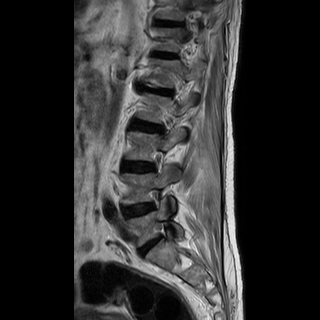LFS1: (147, 144, 169, 178)
LFS2: (144, 182, 167, 217)
